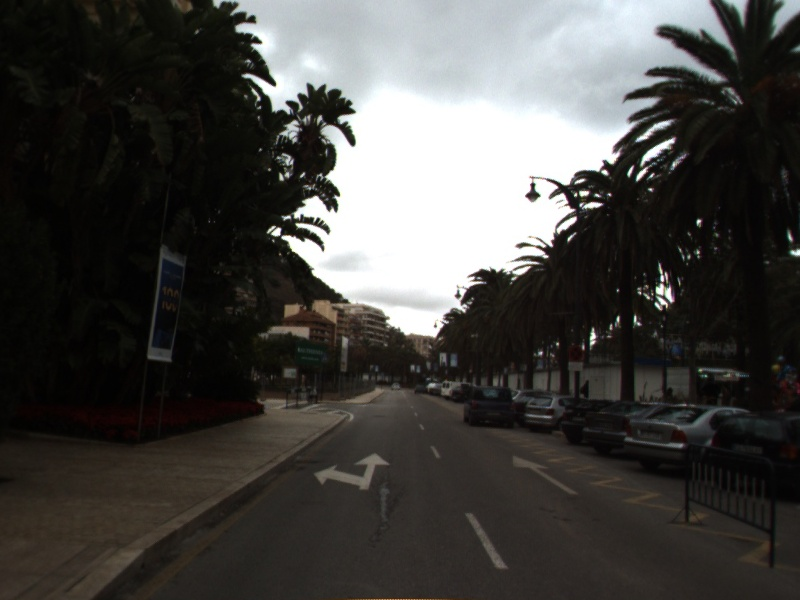STRAIGHT: (510, 453, 581, 497)
STRAIGHT_LEFT: (312, 451, 394, 492)
